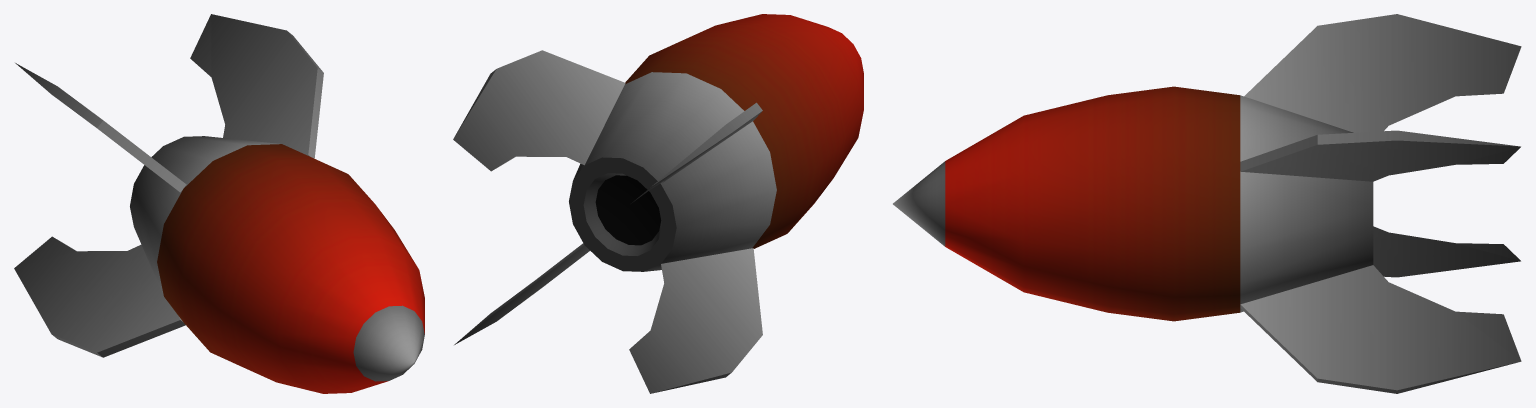
The model's file is missile.fbx.
3 views of the same model, side by side, from view 1: azimuth 30°, elevation 25°; view 2: azimuth 150°, elevation 25°; view 3: azimuth 270°, elevation 25° (orthographic). The views are drawn at different scales.
Parts seen in each view (by area): view 1: missile; view 2: missile; view 3: missile.
Part boxes in pixels (x1,y1,x2,y2): missile: [14, 14, 424, 393]; missile: [453, 14, 863, 393]; missile: [893, 14, 1521, 393].
Size of the model in its own units: 74.82 by 74.82 by 162.
